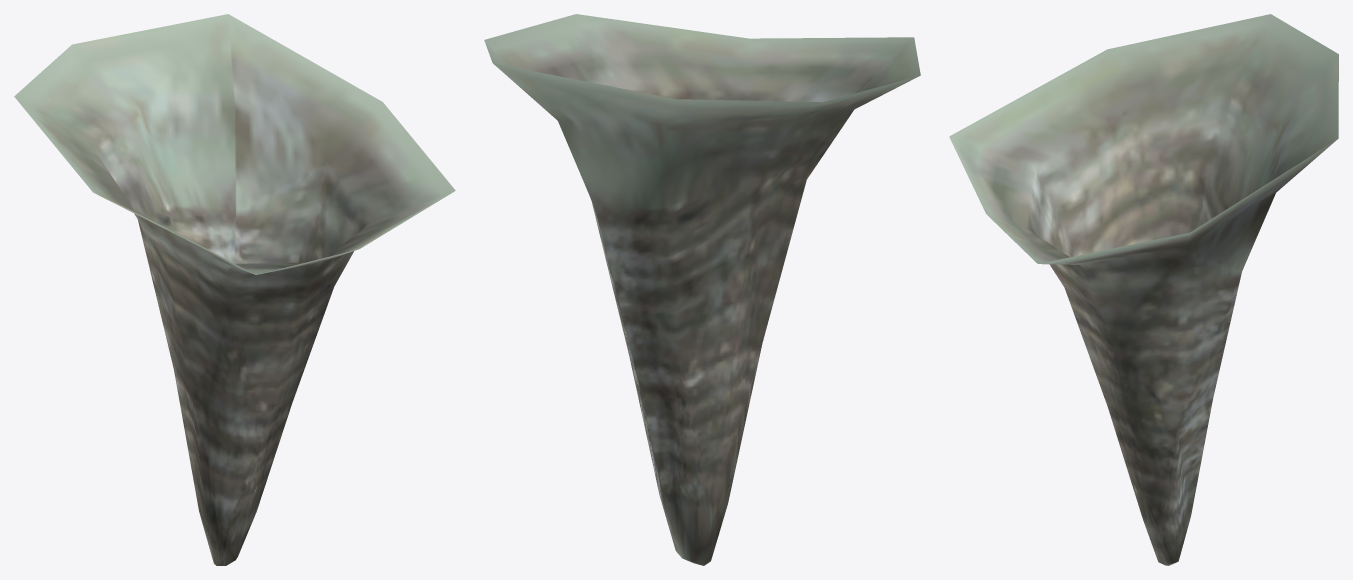
Rendered from TROLLHOLE02_PS-UPPERSTALAG19.fbx.
The picture shows the model from 3 angles, left to right: view 1: azimuth 30°, elevation 25°; view 2: azimuth 150°, elevation 25°; view 3: azimuth 270°, elevation 25°; orthographic projection. The views are drawn at different scales.
Visible parts, largest first — view 1: TROLLHOLE02_PS-UPPERSTALAG19; view 2: TROLLHOLE02_PS-UPPERSTALAG19; view 3: TROLLHOLE02_PS-UPPERSTALAG19.
Boxes of the visible parts, x1,y1,x2,y2 form: TROLLHOLE02_PS-UPPERSTALAG19: (14, 14, 455, 565); TROLLHOLE02_PS-UPPERSTALAG19: (484, 14, 920, 565); TROLLHOLE02_PS-UPPERSTALAG19: (949, 14, 1338, 565).
Bounding box in the file's own units: 13148 × 18005 × 13315.
Materials: 1 (1 with a texture image).
